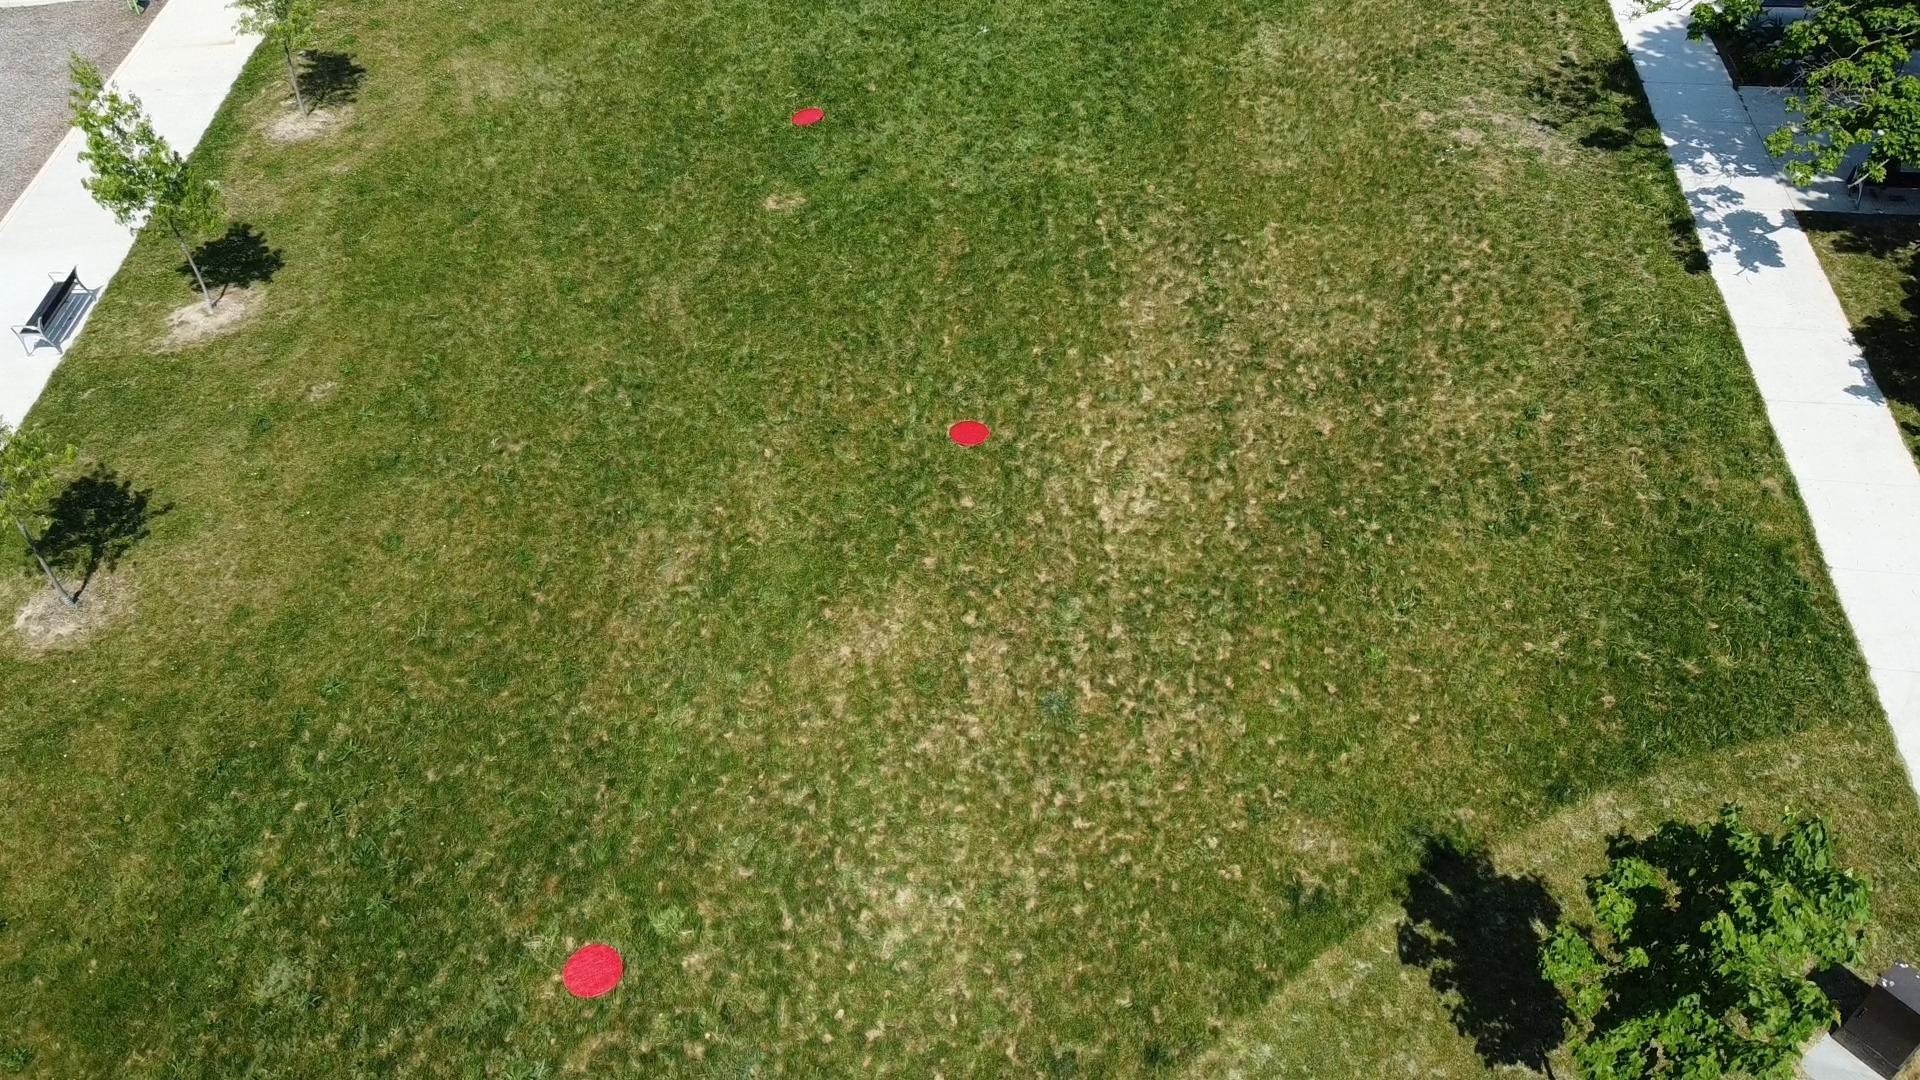Red: (560, 942, 625, 1002), (947, 417, 990, 448), (787, 105, 828, 127)
